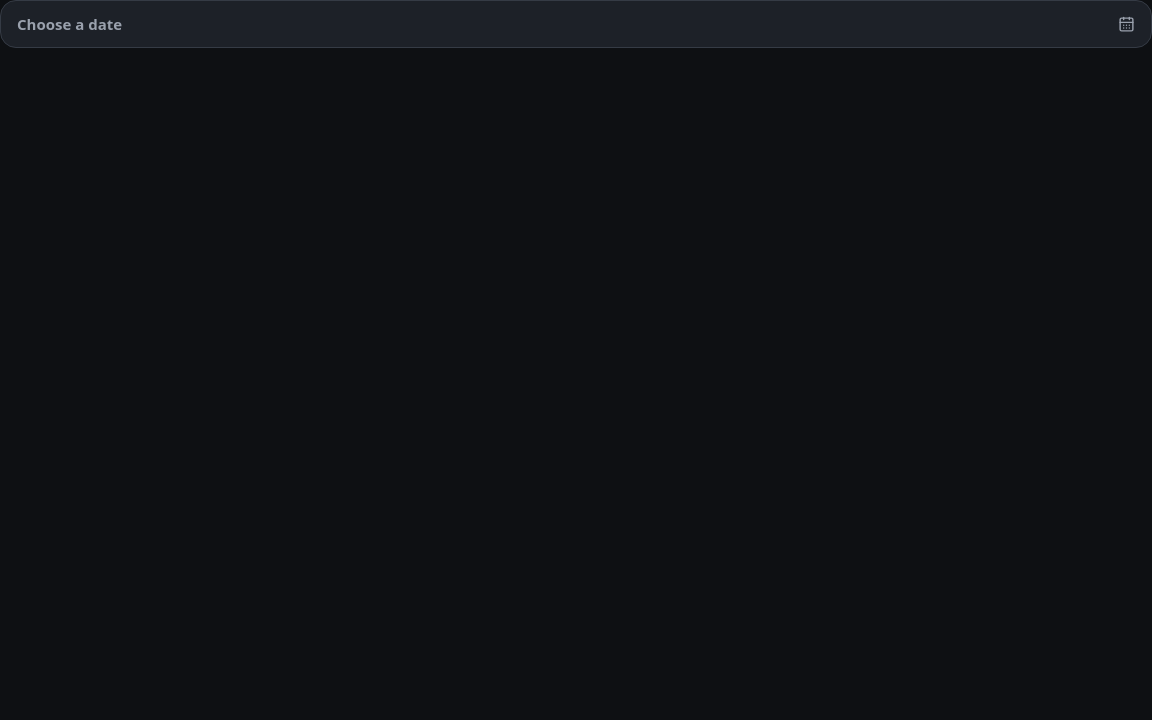
DatePicker › picks today from the footer
Click the button with aria-label "Due date": coordinates (70, 24) [0, 0, 1151, 48]
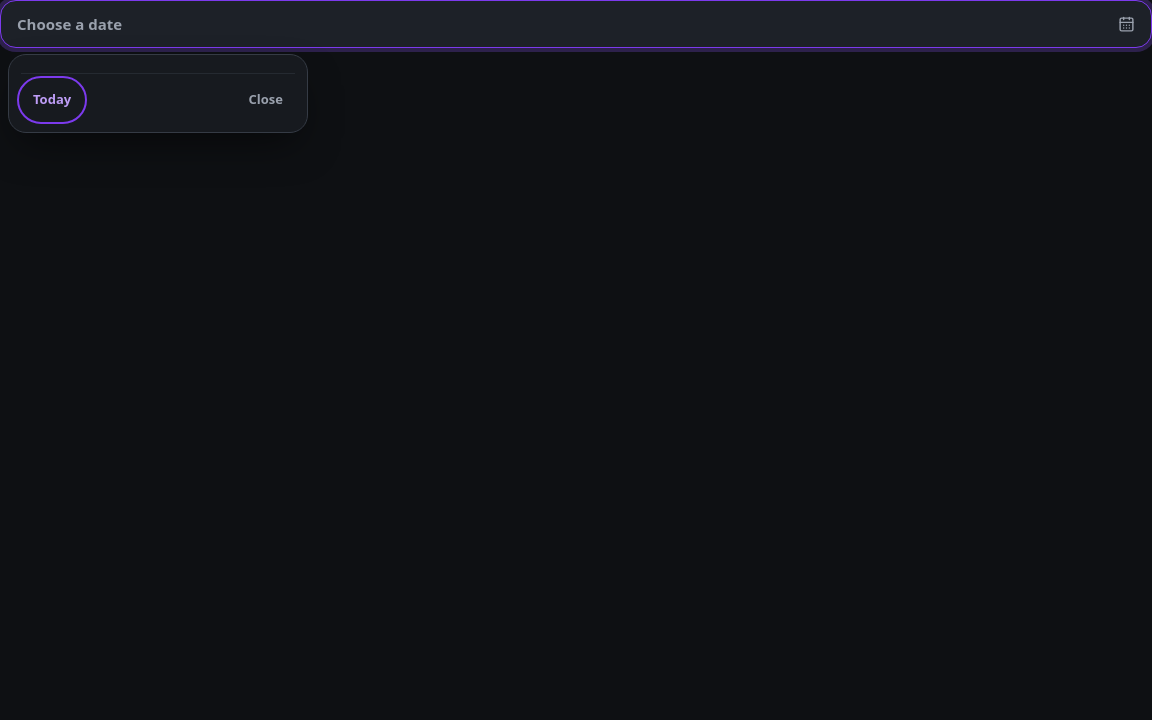
Click the button "Today": coordinates (52, 100) [21, 80, 83, 120]
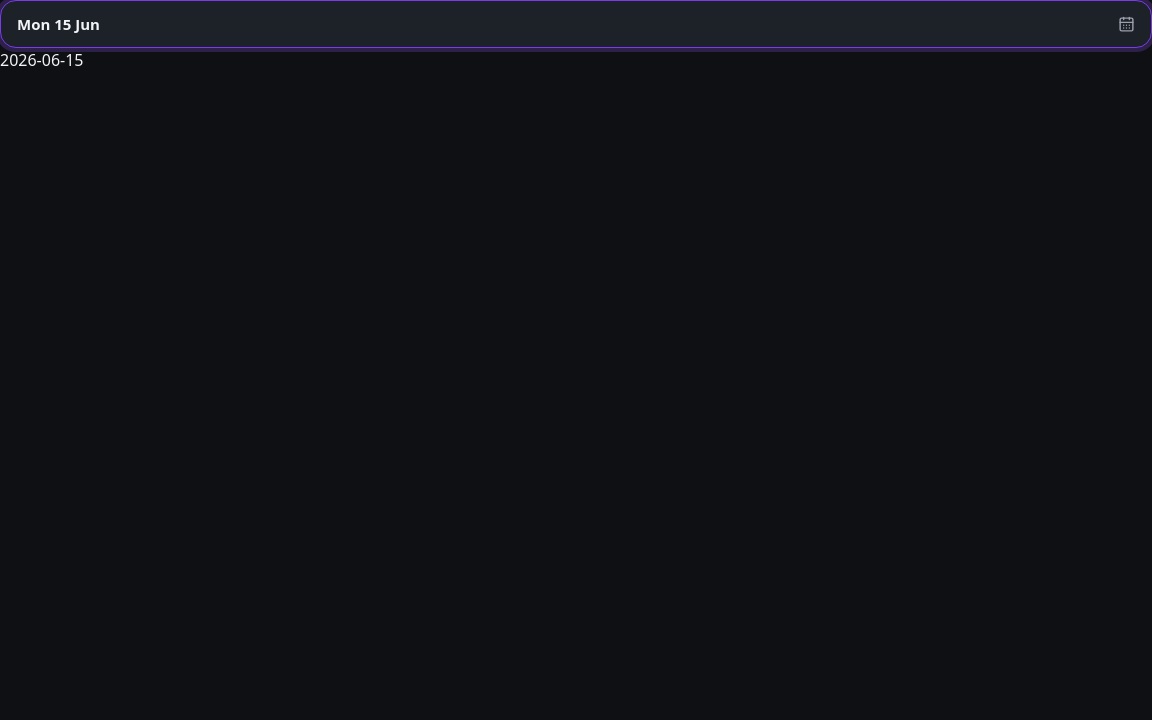
Check: the text "2026-06-15" is shown, box [0, 49, 84, 71]
